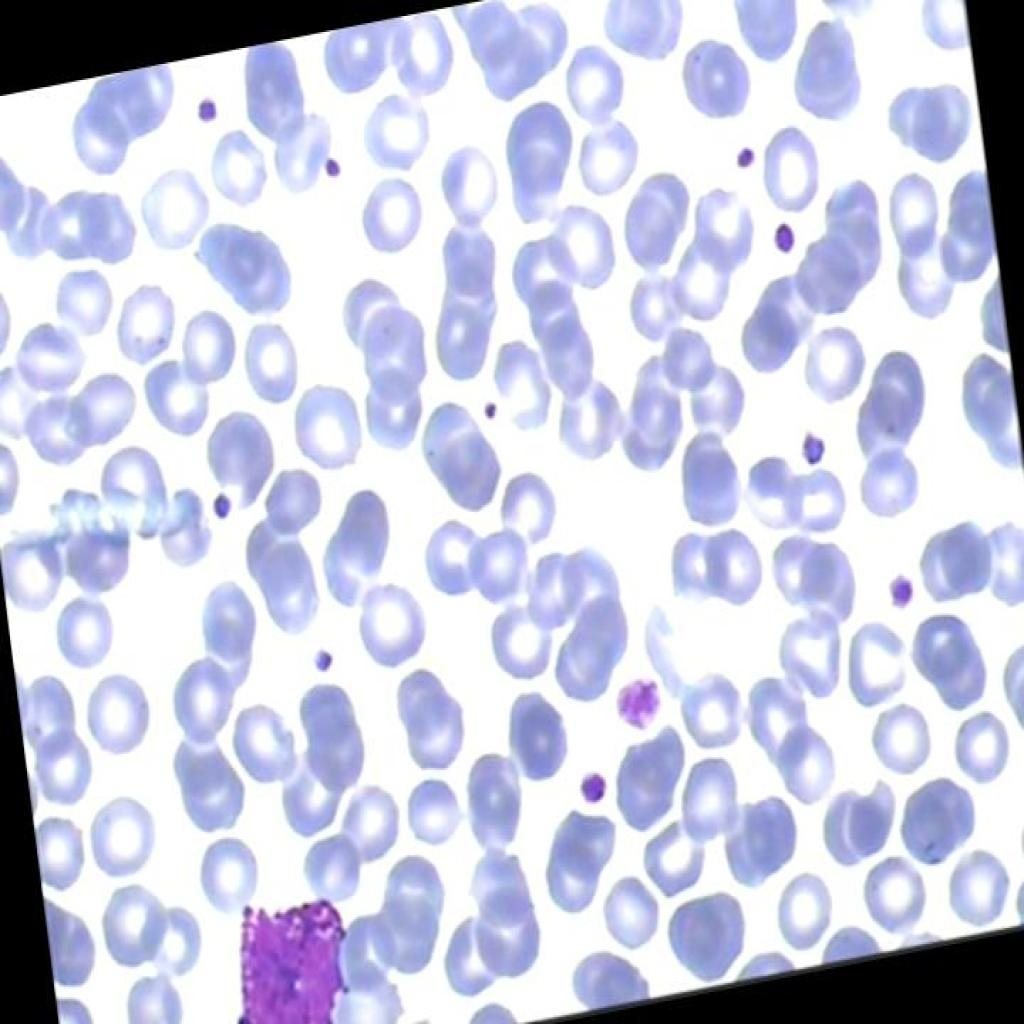Basofil: (215, 875, 370, 1022)
Platelet: (606, 666, 673, 740), (760, 202, 816, 274), (567, 754, 626, 820), (194, 473, 244, 533), (182, 85, 235, 137), (876, 553, 919, 615), (732, 126, 770, 192), (468, 368, 506, 430), (298, 629, 332, 683), (792, 422, 826, 468), (312, 146, 342, 183)
